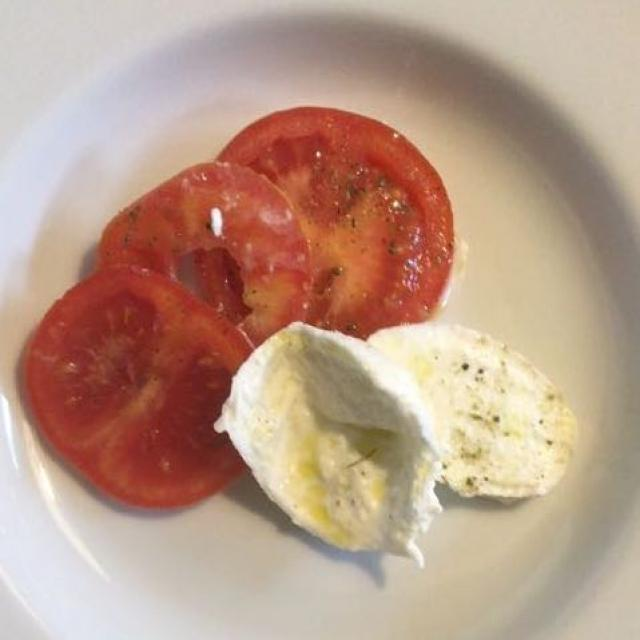salad: (28, 126, 593, 584)
